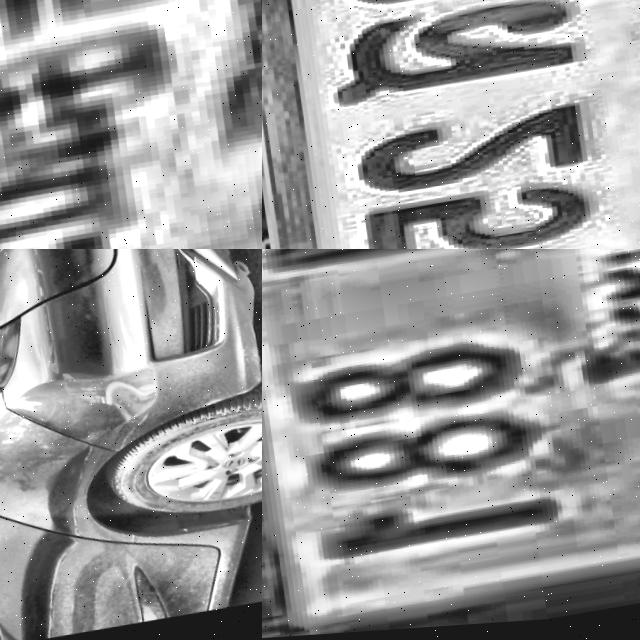license-plate: (262, 249, 640, 640), (262, 0, 640, 249), (0, 0, 262, 249)
